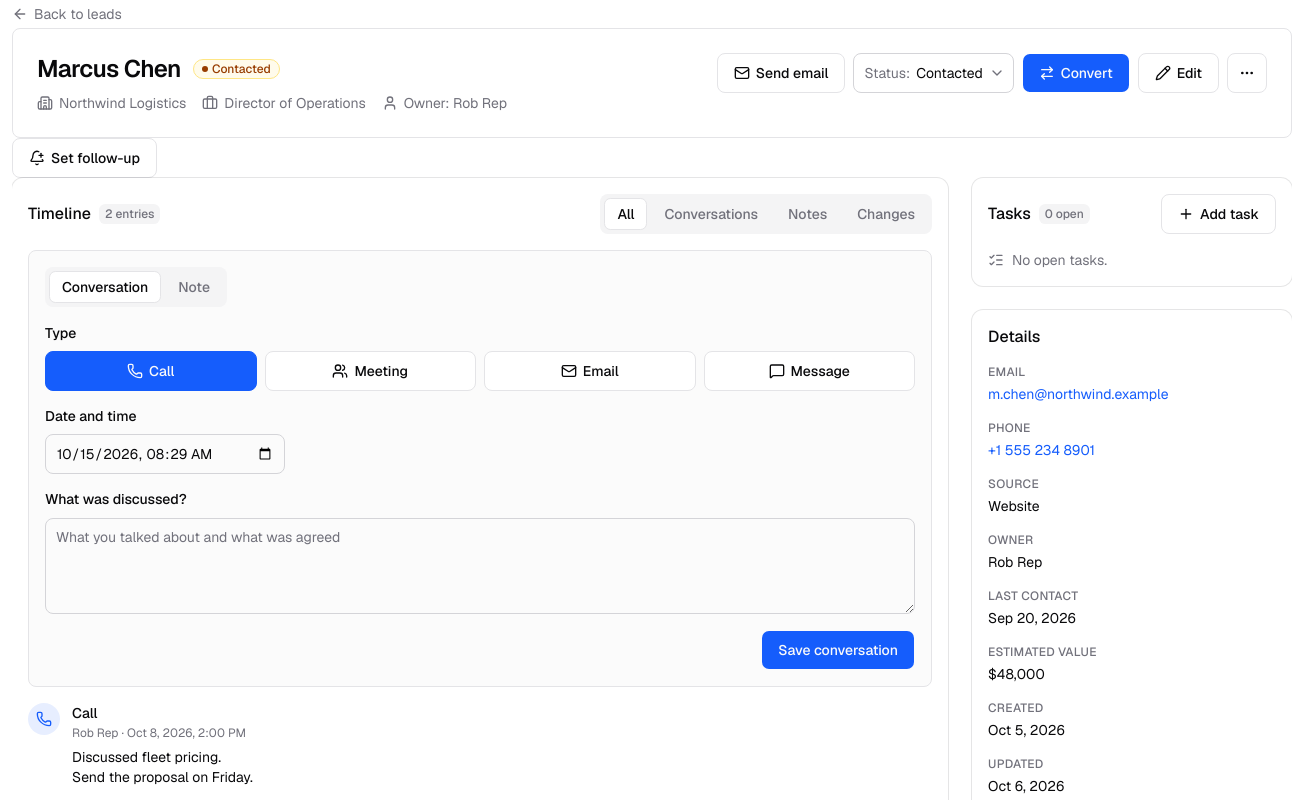
it: LeadDetailPage › changes the status to one of New, Contacted and Qualified
Check: the heading "Marcus Chen" is shown, box [37, 53, 181, 85]
Click the dropdown labelled "Status". click: (934, 73)
box: [853, 53, 1014, 93]
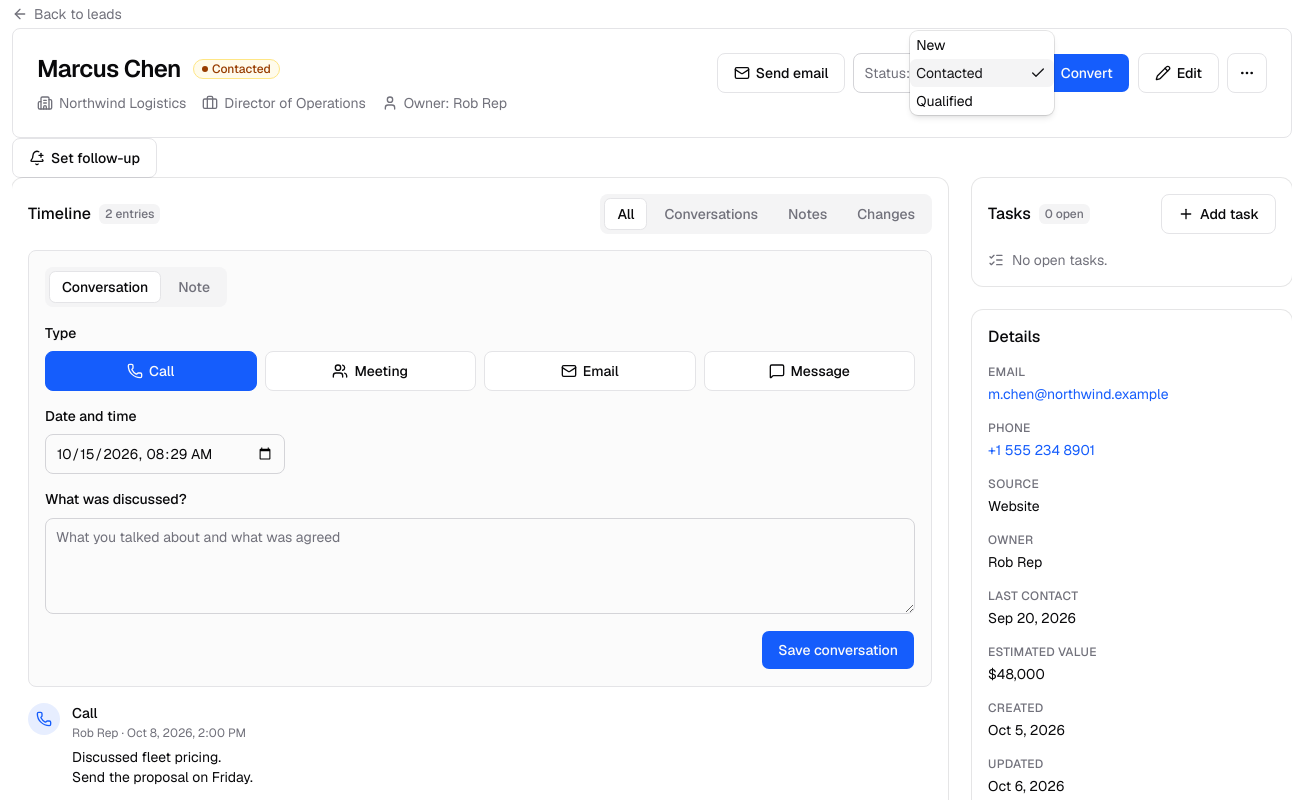
Check: the options read "New", "Contacted", "Qualified", in this order
Click the option "Qualified". click: (944, 101)
box: [916, 92, 973, 110]
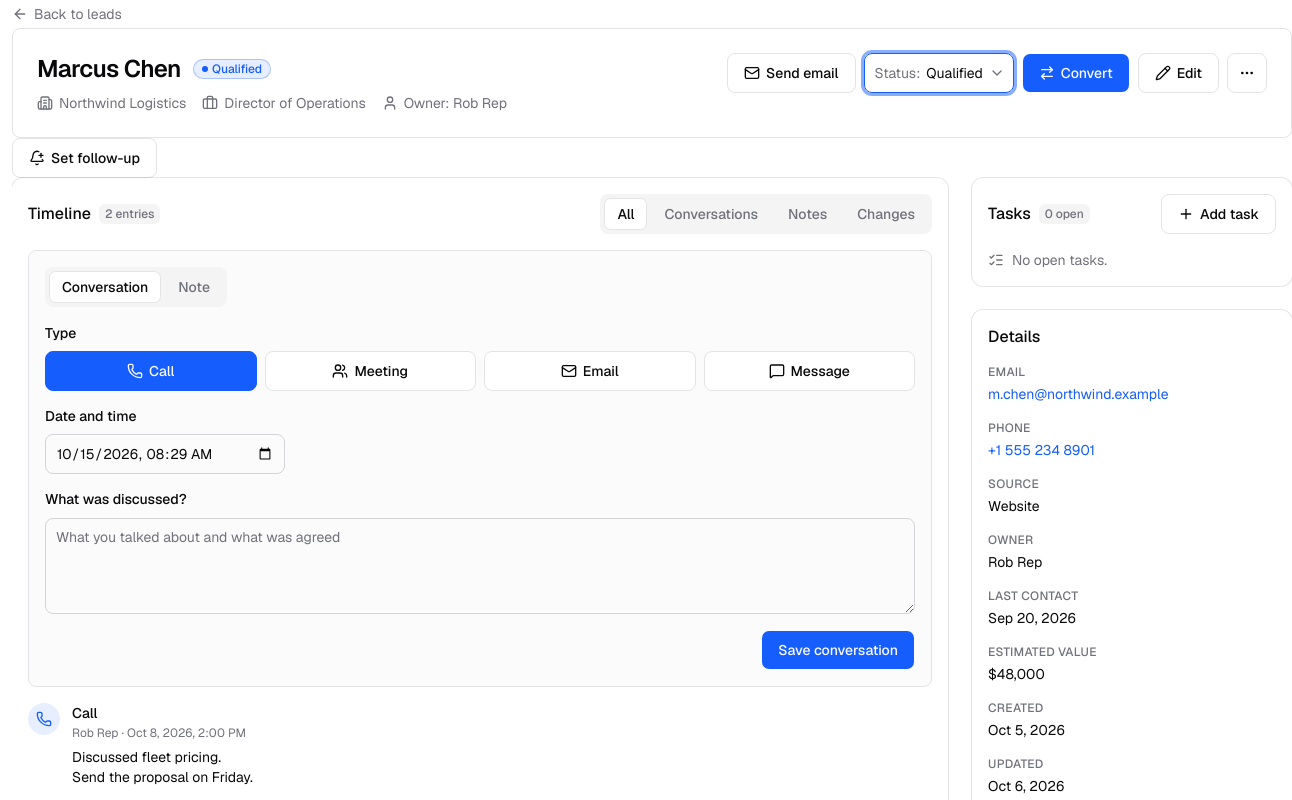
Check: the element showing "Qualified" is shown, box [193, 59, 271, 79]
